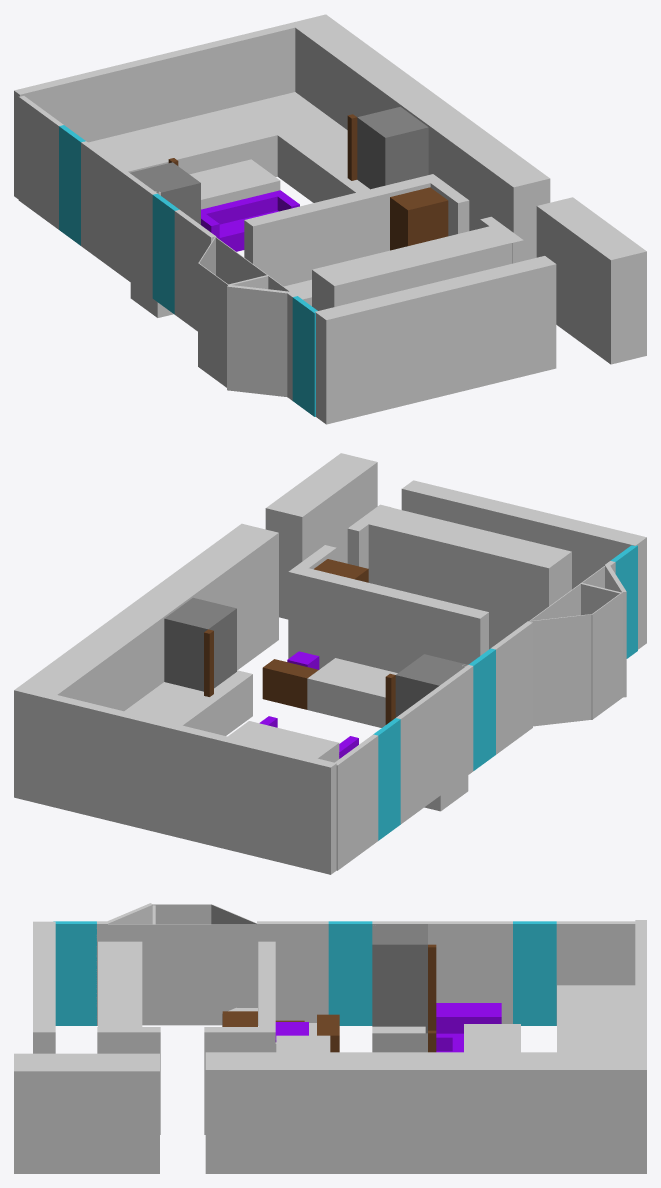
Rendered from ARHouseMeasuredObjects.fbx.
3 renders of one model, top to bottom at view 1: azimuth 30°, elevation 25°; view 2: azimuth 150°, elevation 25°; view 3: azimuth 270°, elevation 25°, orthographic. The views are drawn at different scales.
Visible parts, largest first — view 1: Cube__5__1, Back_wall, Fireplace_wall, Cube__6_, Cube__3_, Cube__4__1, Temp_blockout__1_, Overall_dist, Temp_blockout__1__1, Angled_window, Distance_from_back_wall, Door_3_to_back_wall (+15 smaller); view 2: Fireplace_wall, Back_wall, Cube__4__1, Cube__3_, Cube__5__1, Cube__6_, Overall_dist, Angled_window__1_, Distance_from_back_wall, Temp_blockout__1__1, Door_3_to_back_wall, Temp_blockout_1 (+15 smaller); view 3: Back_wall, Cube__6_, Overall_perp_width, Overall_dist, Window_to_door_2, Distance_from_wall, Temp_blockout__1_, Door_3_to_back_wall, OuterDoor__2_, OuterDoor__3_, OuterDoor__1_, Cube__4__1 (+20 smaller).
Part boxes in pixels (x1,y1,x2,y2): Cube__5__1: [315, 256, 556, 424]; Back_wall: [290, 14, 550, 260]; Fireplace_wall: [14, 23, 295, 199]; Cube__6_: [536, 197, 646, 364]; Cube__3_: [244, 174, 439, 286]; Cube__4__1: [312, 223, 522, 310]; Temp_blockout__1_: [88, 104, 285, 176]; Overall_dist: [81, 141, 156, 298]; Temp_blockout__1__1: [244, 92, 369, 202]; Angled_window: [227, 284, 290, 396]; Distance_from_back_wall: [357, 106, 428, 189]; Door_3_to_back_wall: [18, 96, 63, 229]; Fireplace_wall: [50, 695, 336, 874]; Back_wall: [14, 523, 278, 806]; Cube__4__1: [359, 505, 571, 649]; Cube__3_: [288, 565, 488, 672]; Cube__5__1: [401, 480, 646, 649]; Cube__6_: [265, 453, 377, 619]; Overall_dist: [396, 665, 473, 824]; Angled_window__1_: [528, 614, 591, 726]; Distance_from_back_wall: [164, 597, 236, 691]; Temp_blockout__1__1: [124, 670, 252, 735]; Door_3_to_back_wall: [335, 734, 378, 870]; Temp_blockout_1: [307, 658, 397, 727]; Back_wall: [205, 1052, 646, 1173]; Cube__6_: [14, 1053, 159, 1173]; Overall_perp_width: [108, 924, 256, 1025]; Overall_dist: [372, 921, 512, 1023]; Window_to_door_2: [257, 921, 328, 1025]; Distance_from_wall: [372, 924, 427, 1033]; Temp_blockout__1_: [557, 985, 635, 1052]; Door_3_to_back_wall: [556, 921, 635, 1025]; OuterDoor__2_: [328, 921, 372, 1025]; OuterDoor__3_: [513, 921, 556, 1025]; OuterDoor__1_: [53, 921, 96, 1025]; Cube__4__1: [98, 941, 142, 1031].
Size of the model in its own units: 885 by 305 by 1404.
